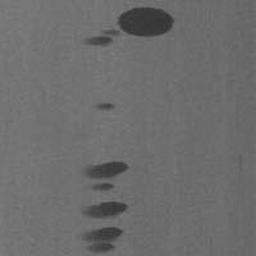Oil spot: (79, 5, 177, 47), (79, 160, 131, 193), (76, 225, 125, 255), (78, 200, 129, 221), (88, 100, 116, 113)
